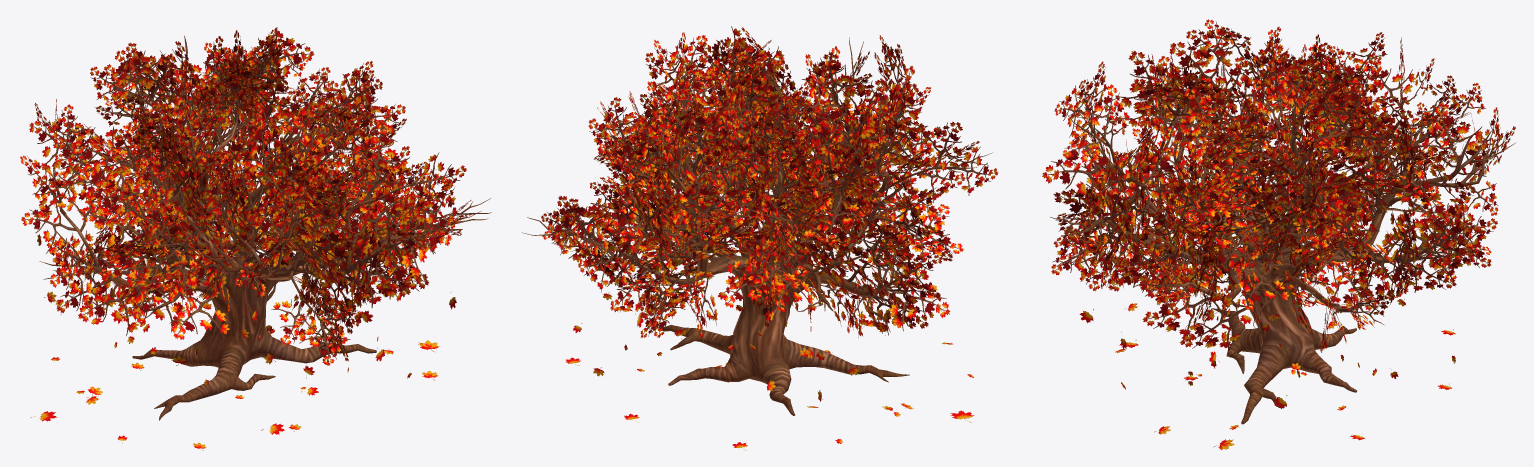
The model's file is Tree with Falling Leaves.glb.
The picture shows the model from 3 angles, left to right: view 1: azimuth 30°, elevation 25°; view 2: azimuth 150°, elevation 25°; view 3: azimuth 270°, elevation 25°; orthographic projection. The views are drawn at different scales.
Visible parts, largest first — view 1: Tree_with_Falling_Leaves.1; view 2: Tree_with_Falling_Leaves.1; view 3: Tree_with_Falling_Leaves.1.
Part boxes in pixels (bbox=[...]): Tree_with_Falling_Leaves.1: bbox=[20, 27, 491, 450]; Tree_with_Falling_Leaves.1: bbox=[522, 26, 998, 450]; Tree_with_Falling_Leaves.1: bbox=[1042, 19, 1515, 450].
Size of the model in its own units: 0.396 by 0.3028 by 0.4034.
Materials: 3 (3 with a texture image).
